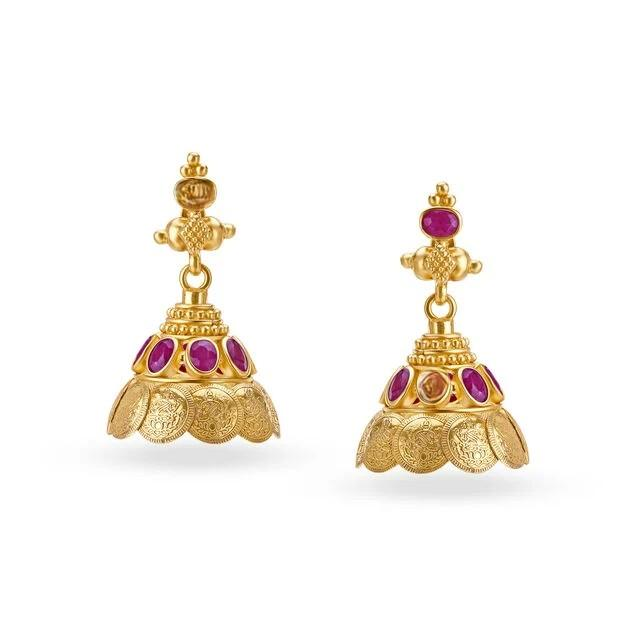missing gem: (175, 180, 215, 208), (418, 370, 446, 404)
